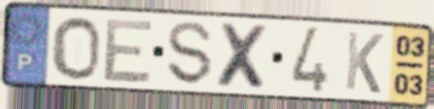4: (289, 24, 333, 96)
E: (100, 17, 157, 84)
K: (343, 29, 386, 97)
O: (50, 14, 103, 82)
S: (165, 20, 215, 88)
X: (214, 20, 272, 93)
